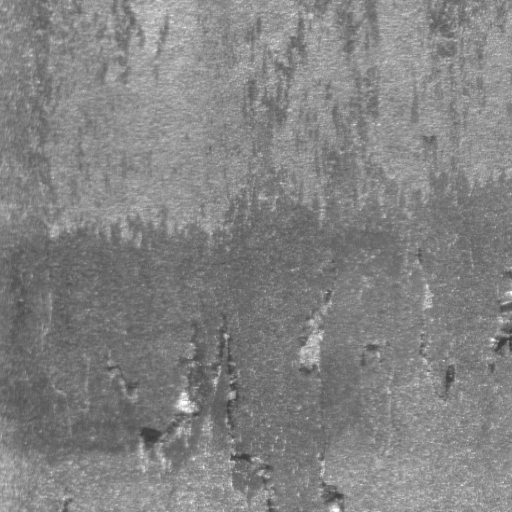aokeng: (490, 269, 512, 362)
